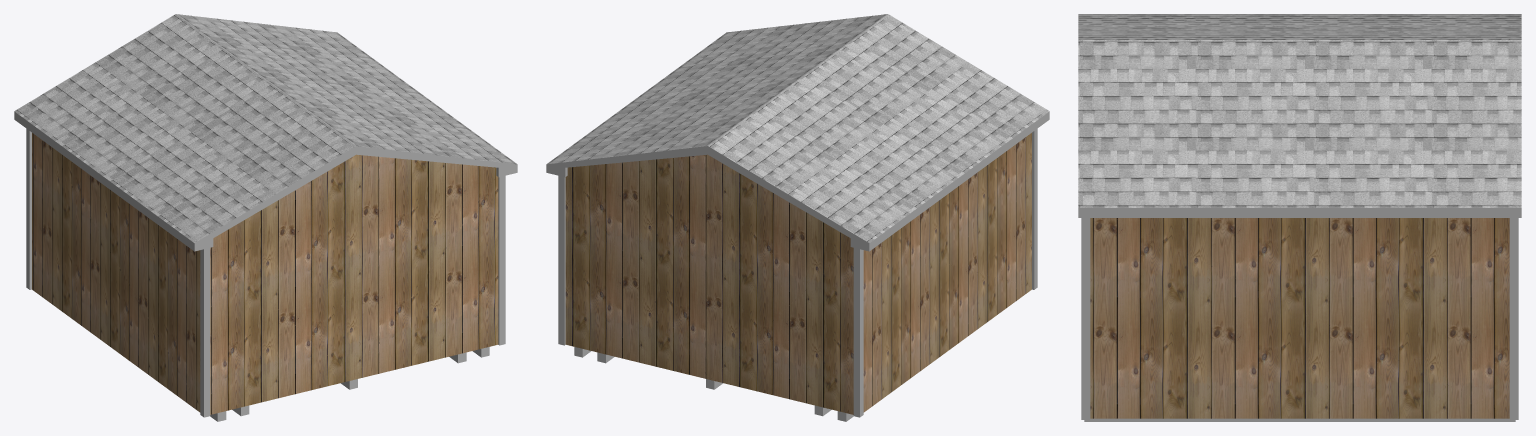
Rendered from A-frame_12x12.obj.
3 views of the same model, side by side, from view 1: azimuth 30°, elevation 25°; view 2: azimuth 150°, elevation 25°; view 3: azimuth 270°, elevation 25° (orthographic). The views are drawn at different scales.
Visible parts, largest first — view 1: Shed, Roof, Sides, Trim, Floor; view 2: Shed, Roof, Sides, Trim, Floor; view 3: Roof, Shed, Sides, Trim, Floor.
Boxes of the visible parts, x1=… form: Shed: x1=32, y1=133, x2=498, y2=414; Roof: x1=14, y1=14, x2=516, y2=242; Sides: x1=14, y1=111, x2=517, y2=251; Trim: x1=26, y1=128, x2=505, y2=417; Floor: x1=210, y1=347, x2=489, y2=421; Shed: x1=565, y1=133, x2=1031, y2=414; Roof: x1=547, y1=14, x2=1049, y2=242; Sides: x1=546, y1=111, x2=1049, y2=251; Trim: x1=558, y1=128, x2=1037, y2=417; Floor: x1=574, y1=347, x2=853, y2=421; Roof: x1=1078, y1=14, x2=1521, y2=207; Shed: x1=1090, y1=218, x2=1509, y2=418; Sides: x1=1078, y1=208, x2=1521, y2=217; Trim: x1=1081, y1=218, x2=1518, y2=419; Floor: x1=1084, y1=418, x2=1515, y2=421.
Size of the model in its own units: 3.89 by 2.81 by 3.76.
